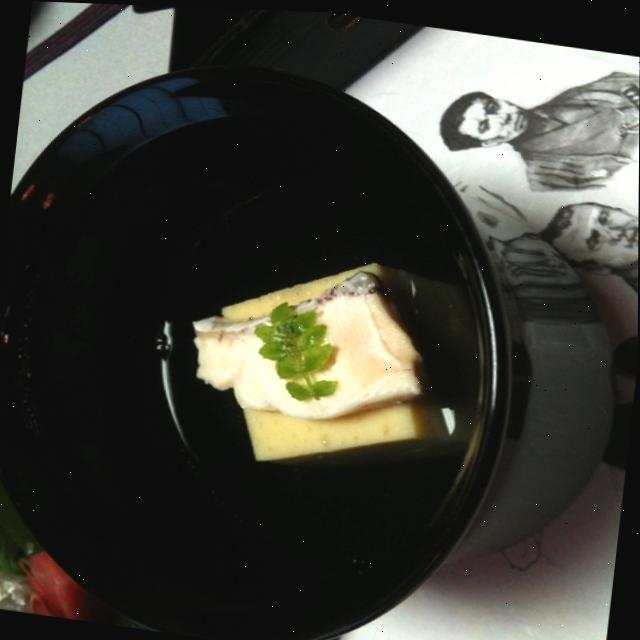汤锅炖物: (0, 46, 555, 640)
